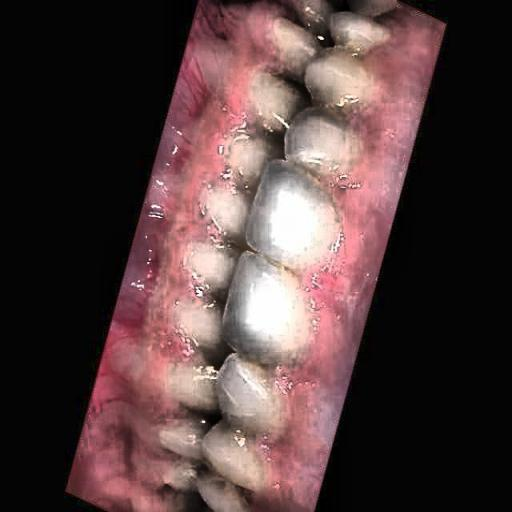Healthy: (197, 78, 333, 475)
